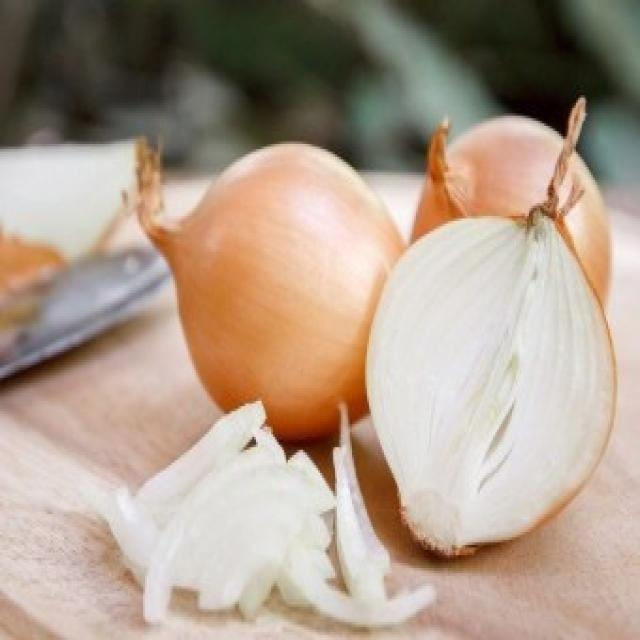onion: (370, 205, 624, 554), (127, 121, 372, 469), (428, 72, 632, 288)
